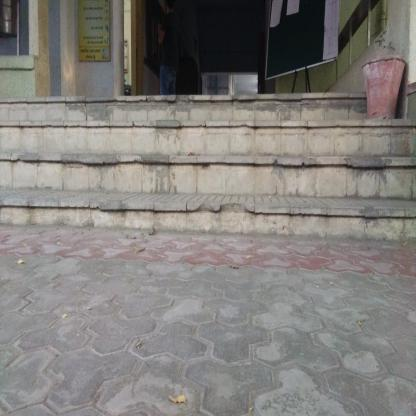stairs: (1, 118, 403, 230)
